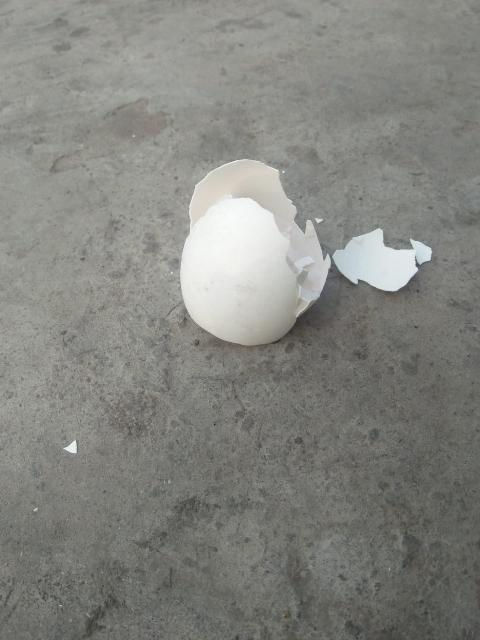Roto: (179, 158, 433, 347)
